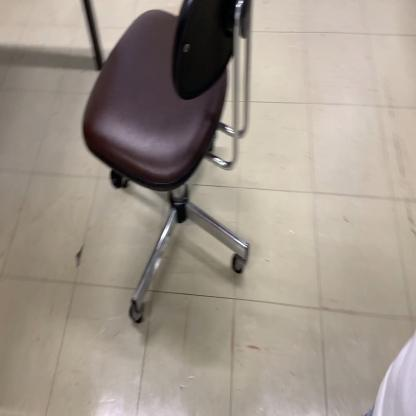chair: (82, 0, 254, 327)
